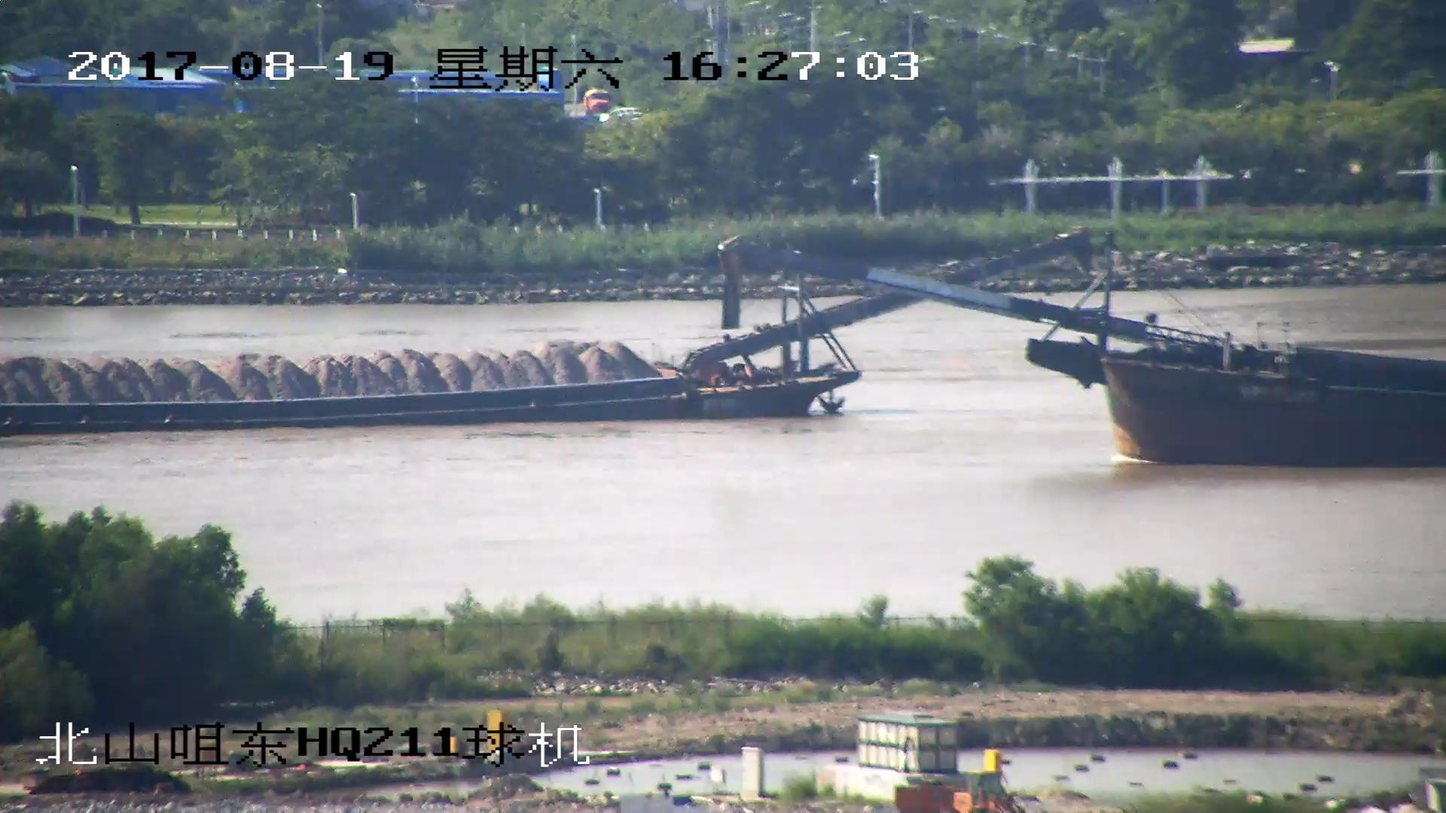bulk cargo carrier: (712, 235, 1445, 468)
ore carrier: (0, 226, 1083, 433)
